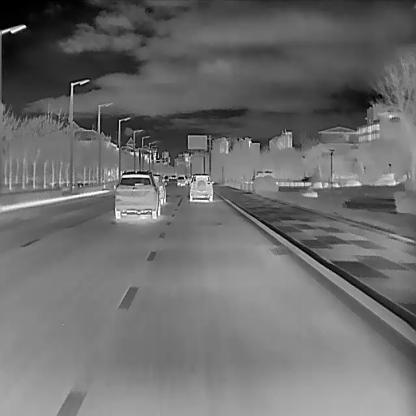car: (114, 169, 160, 219), (189, 173, 213, 202), (152, 172, 167, 203), (176, 174, 186, 185)
